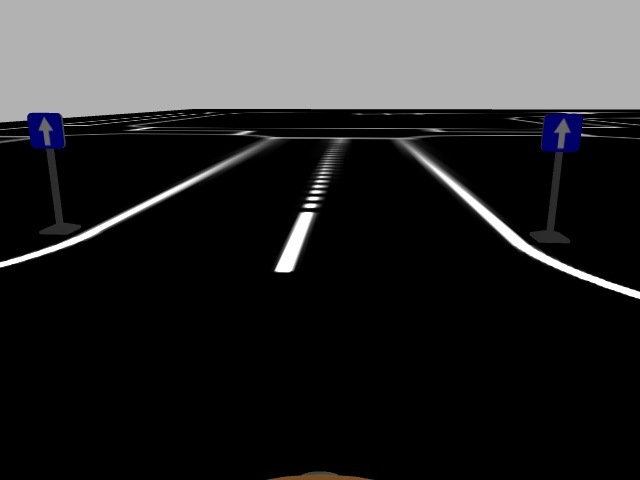oneway: (542, 111, 584, 155), (26, 111, 68, 152)
